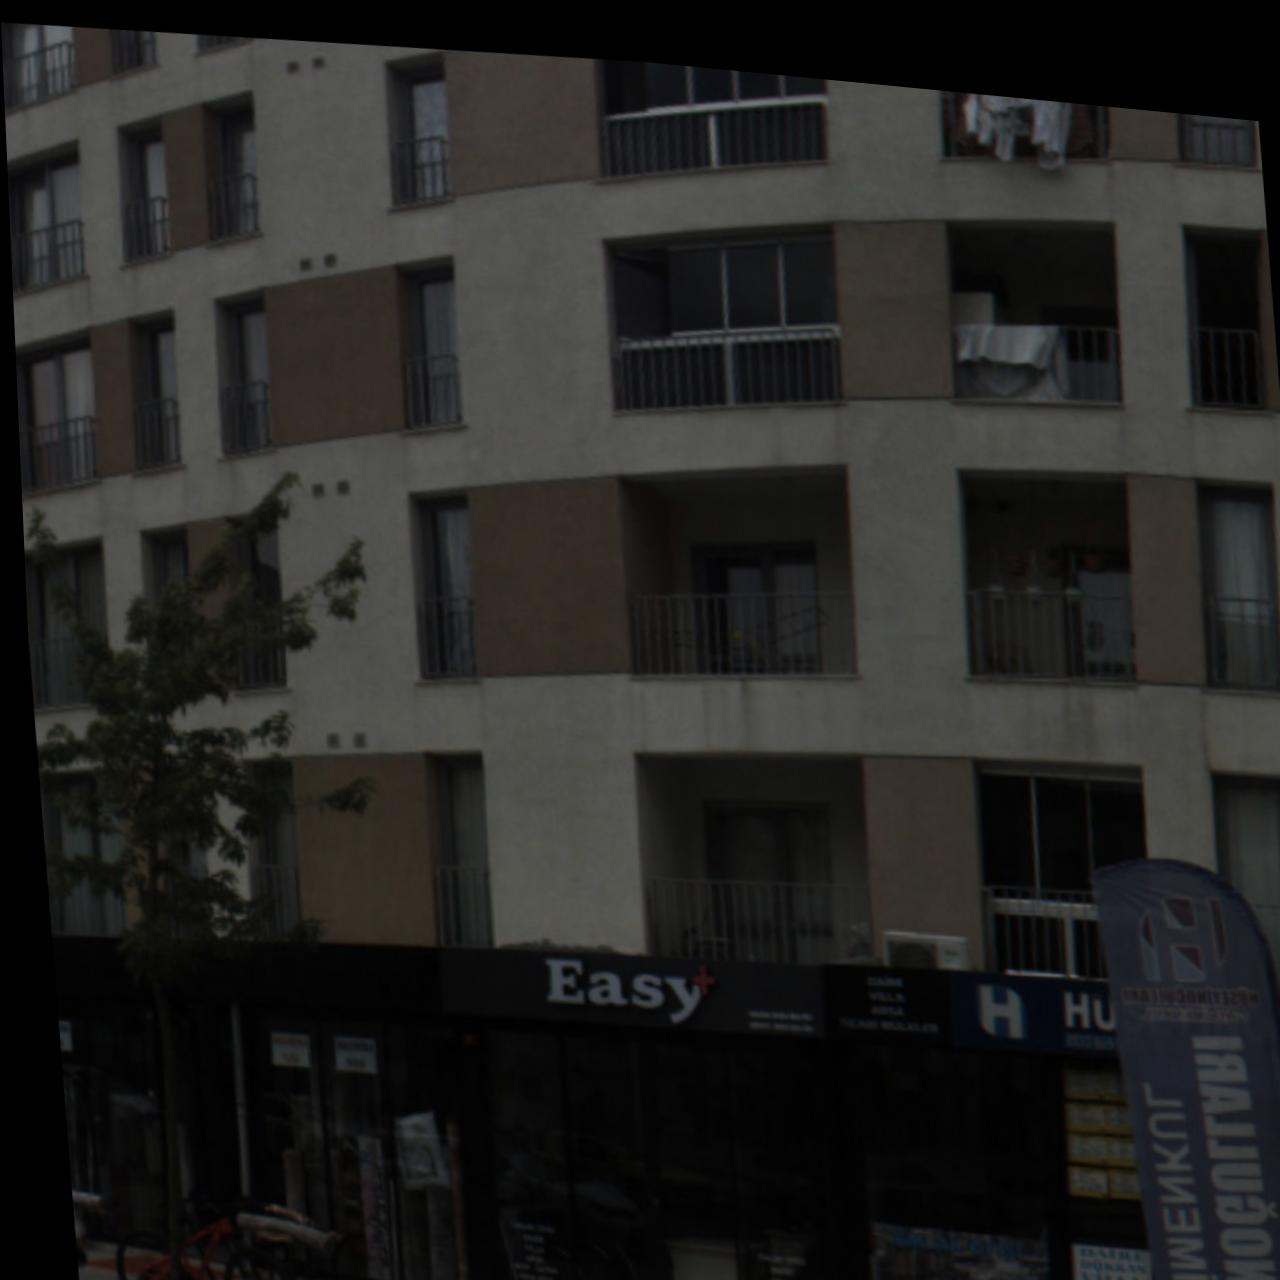SignStore: (816, 947, 1280, 1043), (428, 938, 816, 1023)
